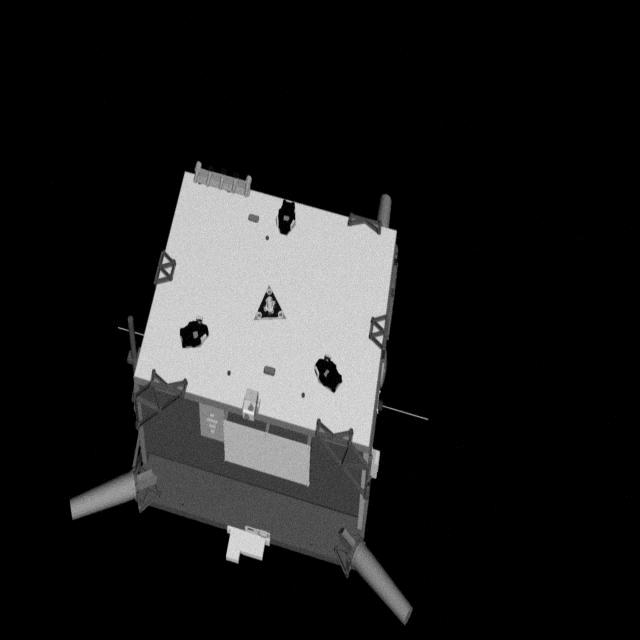satellite: (62, 154, 432, 624)
